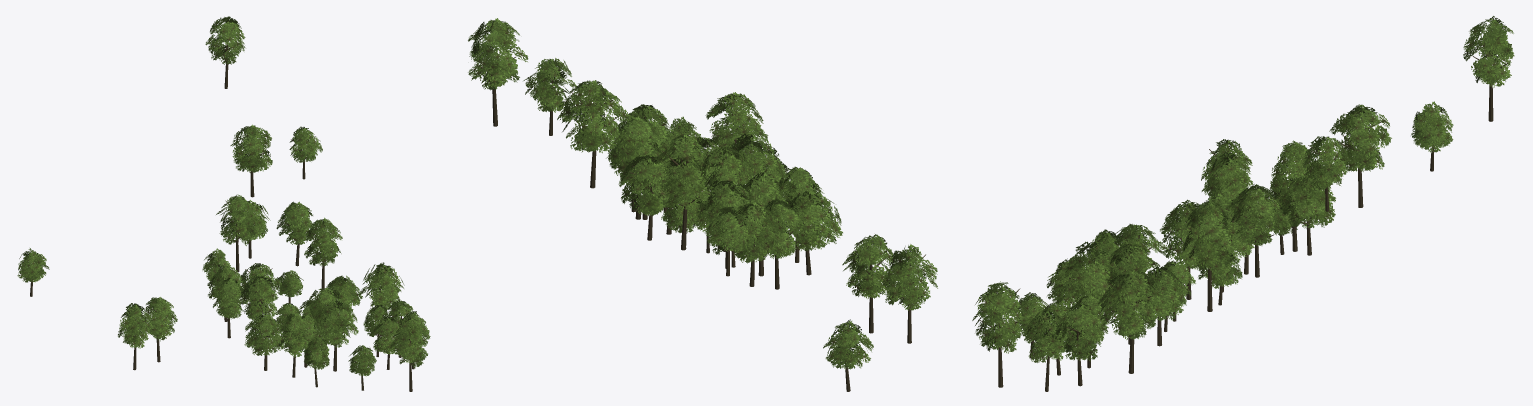
Rendered from TRB8-FOREST-CHUNK-1-2.glb.
3 views of the same model, side by side, from view 1: azimuth 30°, elevation 25°; view 2: azimuth 150°, elevation 25°; view 3: azimuth 270°, elevation 25° (orthographic). The views are drawn at different scales.
Visible parts, largest first — view 1: TRB8-FOREST-CHUNK-1-2; view 2: TRB8-FOREST-CHUNK-1-2; view 3: TRB8-FOREST-CHUNK-1-2.
Boxes of the visible parts, <box> form: TRB8-FOREST-CHUNK-1-2: <box>17,16,430,391</box>; TRB8-FOREST-CHUNK-1-2: <box>468,18,937,391</box>; TRB8-FOREST-CHUNK-1-2: <box>972,16,1514,391</box>.
Bounding box in the file's own units: 24.1 × 20.52 × 28.41.
Materials: 2 (1 with a texture image).
